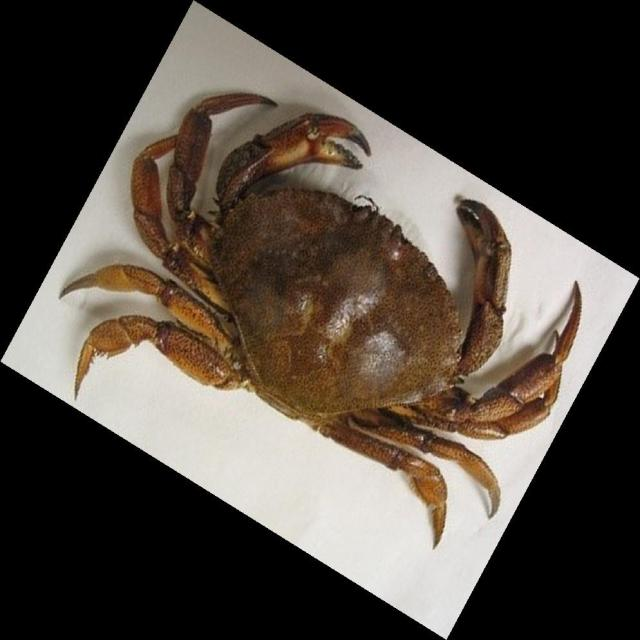Native Rock crab: (61, 93, 581, 546)
